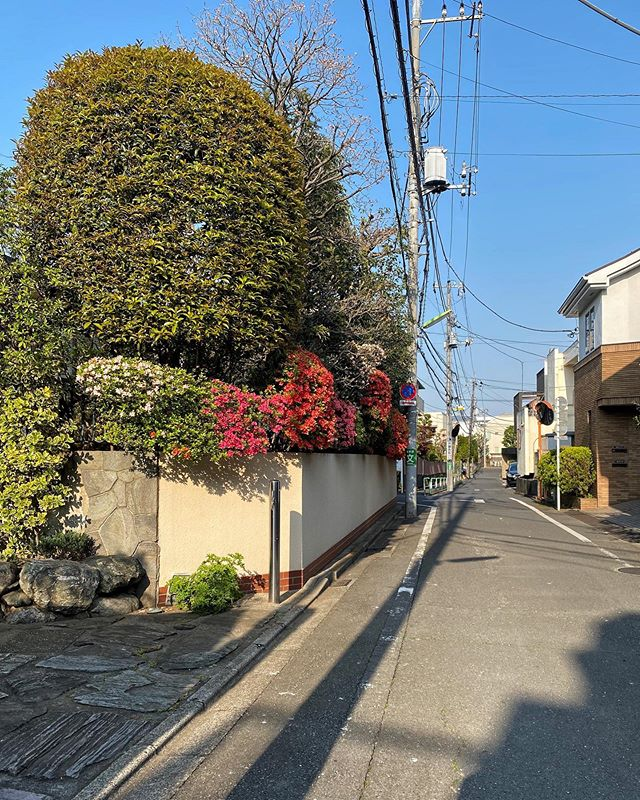building: (546, 243, 640, 504)
sky: (439, 1, 640, 315)
street: (217, 504, 640, 800)
tree: (1, 36, 338, 370)
